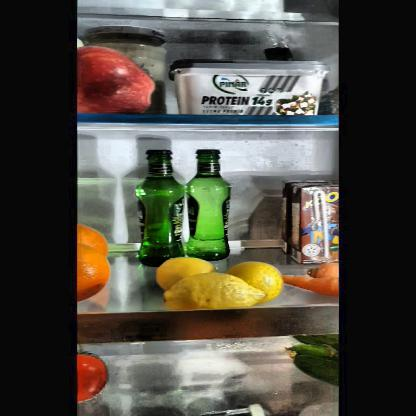apple: (78, 45, 160, 113)
cheese: (172, 58, 330, 116)
lemon: (163, 271, 267, 311), (233, 261, 281, 303)
mineral_water: (138, 149, 188, 265), (192, 150, 232, 258)
tomato: (77, 342, 114, 399)
